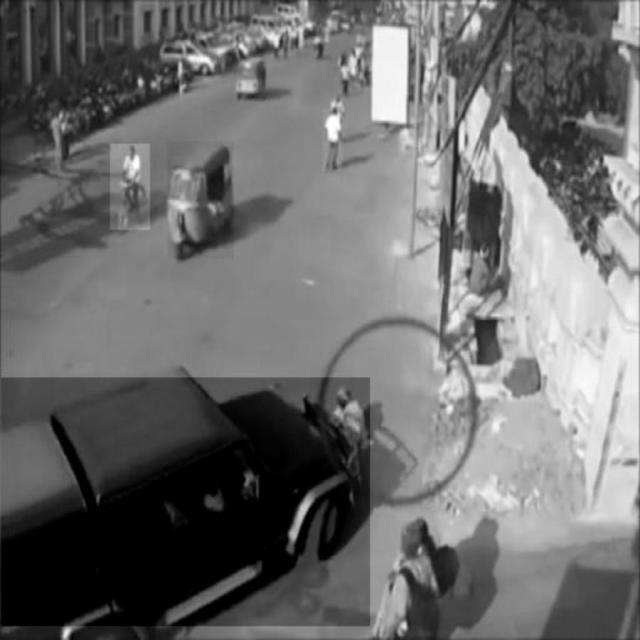accident: (1, 378, 369, 626)
person: (323, 109, 343, 171)
vehicle: (168, 141, 234, 259), (110, 144, 150, 230), (237, 56, 264, 96)
